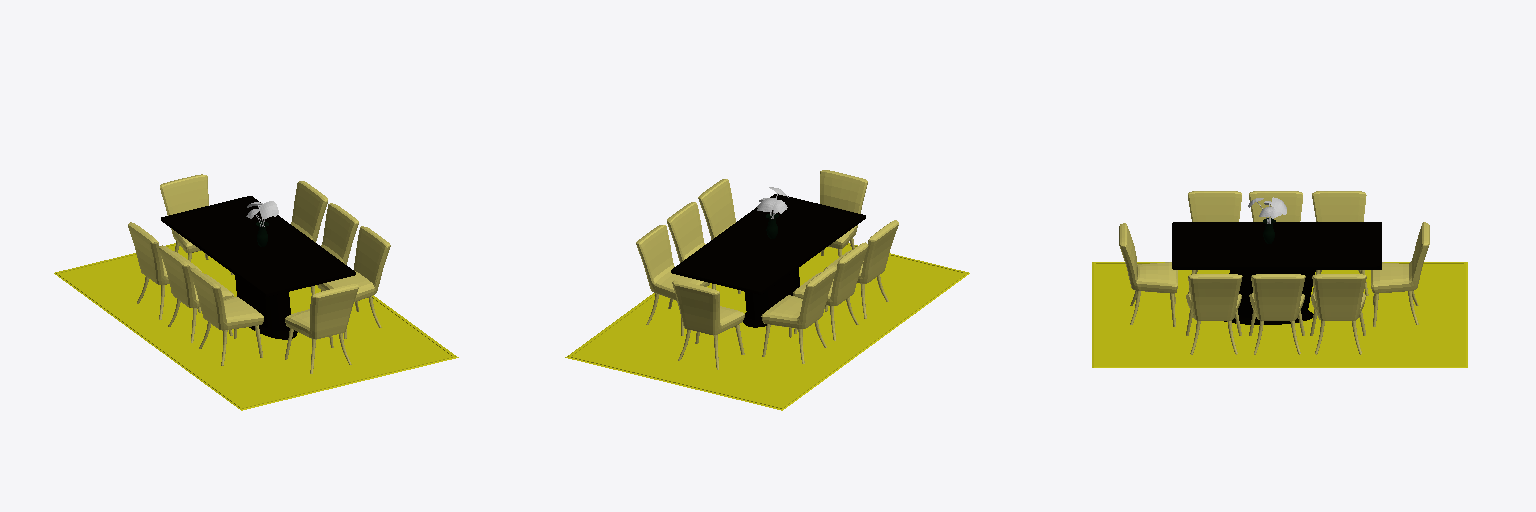
Rendered from table.obj.
The picture shows the model from 3 angles: view 1: azimuth 30°, elevation 25°; view 2: azimuth 150°, elevation 25°; view 3: azimuth 270°, elevation 25°; orthographic projection.
Parts seen in each view (by area): view 1: Plane.001, mesajantar, cadeirajantar, cadeirajantar.006, cadeirajantar.001, cadeirajantar.007, cadeirajantar.005, cadeirajantar.004, cadeirajantar.002, cadeirajantar.003; view 2: Plane.001, mesajantar, cadeirajantar.007, cadeirajantar.004, cadeirajantar.003, cadeirajantar, cadeirajantar.005, cadeirajantar.006, cadeirajantar.002, cadeirajantar.001; view 3: Plane.001, mesajantar, cadeirajantar.001, cadeirajantar.002, cadeirajantar.003, cadeirajantar, cadeirajantar.007, cadeirajantar.004, cadeirajantar.006, cadeirajantar.005.
Part boxes in pixels (bbox=[...]): Plane.001: bbox=[54, 243, 458, 410]; mesajantar: bbox=[161, 196, 355, 339]; cadeirajantar: bbox=[285, 284, 358, 373]; cadeirajantar.006: bbox=[190, 268, 263, 365]; cadeirajantar.001: bbox=[317, 226, 390, 338]; cadeirajantar.007: bbox=[160, 174, 233, 274]; cadeirajantar.005: bbox=[159, 245, 233, 342]; cadeirajantar.004: bbox=[128, 222, 201, 319]; cadeirajantar.002: bbox=[311, 203, 358, 294]; cadeirajantar.003: bbox=[291, 181, 327, 242]; Plane.001: bbox=[565, 243, 969, 410]; mesajantar: bbox=[671, 194, 865, 327]; cadeirajantar.007: bbox=[672, 280, 744, 369]; cadeirajantar.004: bbox=[761, 265, 836, 363]; cadeirajantar.003: bbox=[636, 225, 709, 335]; cadeirajantar: bbox=[820, 170, 867, 256]; cadeirajantar.005: bbox=[793, 242, 868, 340]; cadeirajantar.006: bbox=[824, 220, 898, 318]; cadeirajantar.002: bbox=[667, 202, 740, 302]; cadeirajantar.001: bbox=[698, 179, 735, 239]; Plane.001: bbox=[1092, 262, 1467, 367]; mesajantar: bbox=[1172, 222, 1381, 324]; cadeirajantar.001: bbox=[1186, 274, 1242, 354]; cadeirajantar.002: bbox=[1249, 274, 1305, 354]; cadeirajantar.003: bbox=[1310, 274, 1366, 354]; cadeirajantar: bbox=[1119, 223, 1177, 326]; cadeirajantar.007: bbox=[1371, 222, 1429, 326]; cadeirajantar.004: bbox=[1312, 191, 1368, 295]; cadeirajantar.006: bbox=[1188, 191, 1241, 293]; cadeirajantar.005: bbox=[1249, 191, 1302, 221].
Size of the model in its own units: 2.23 by 1.17 by 3.34.